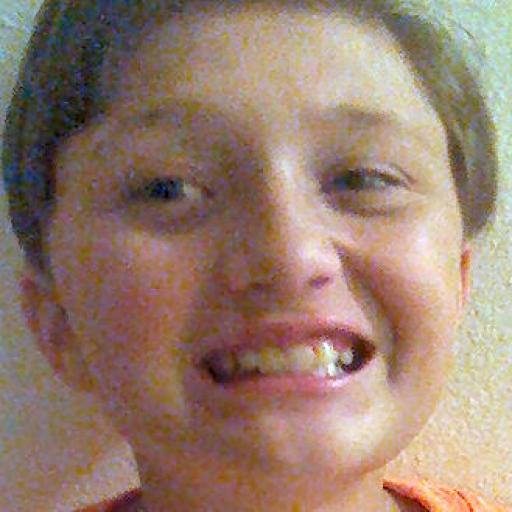Autism: (19, 5, 497, 498)
